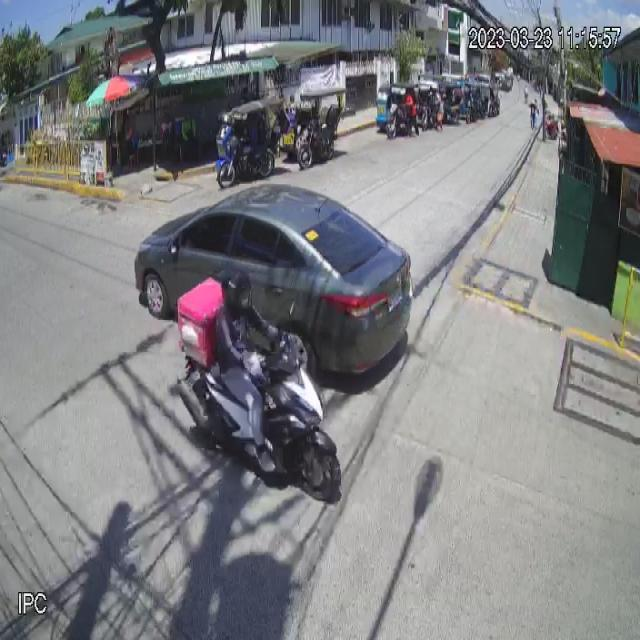Car: (132, 180, 412, 384)
Motorcycle: (171, 270, 339, 505)
